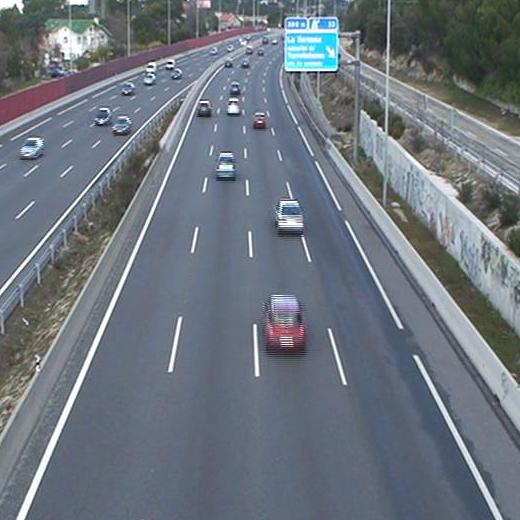car: (266, 295, 305, 350), (275, 200, 303, 231), (214, 152, 235, 177), (195, 100, 212, 117), (226, 97, 241, 114), (253, 112, 267, 128), (227, 82, 241, 95), (240, 58, 250, 68), (224, 57, 232, 69)
